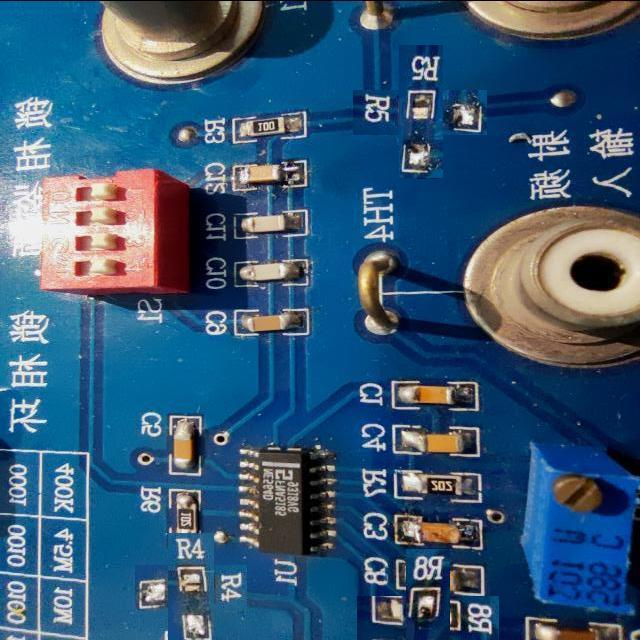miss_welding: (376, 68, 465, 157), (382, 571, 475, 640), (152, 548, 230, 628)
